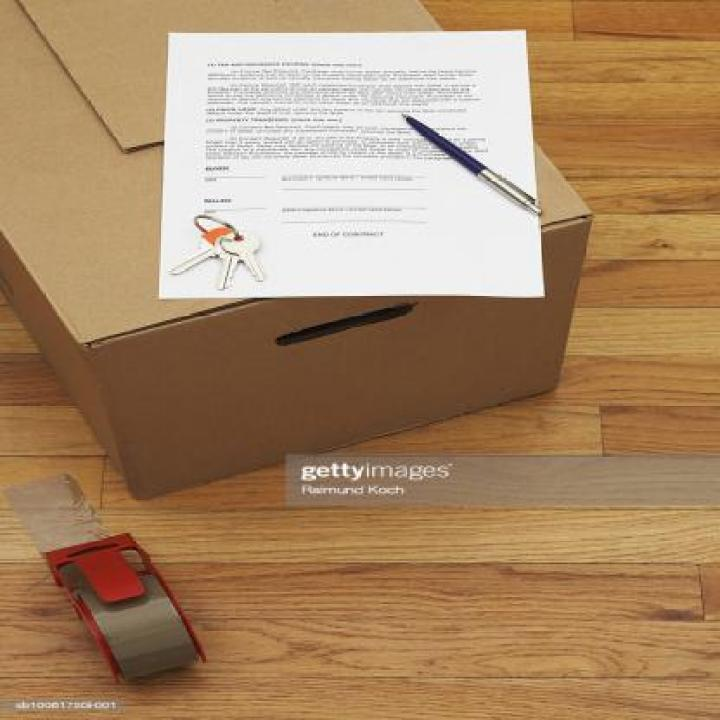box: (0, 0, 608, 516)
